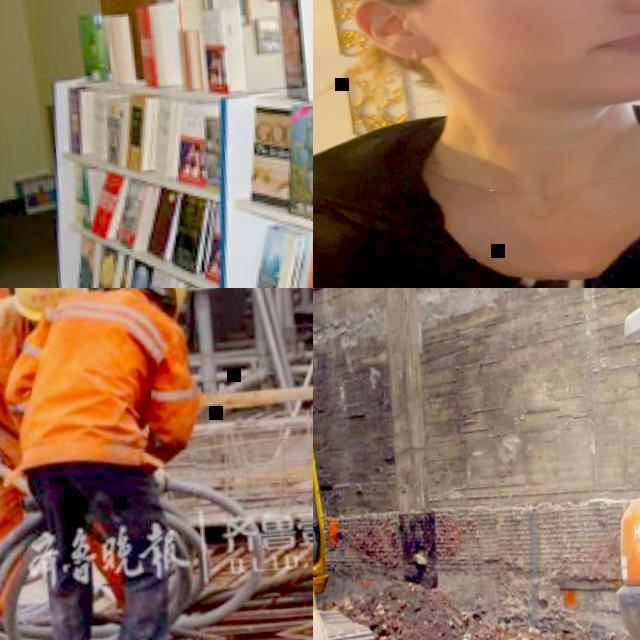helmet: (7, 288, 92, 321), (103, 288, 191, 315)
vest: (10, 288, 186, 472), (0, 299, 47, 461)
